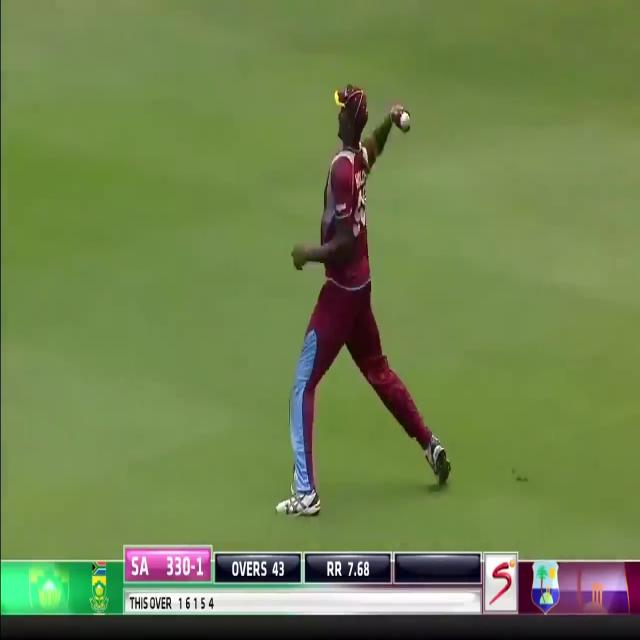Fielder: (282, 79, 450, 508)
